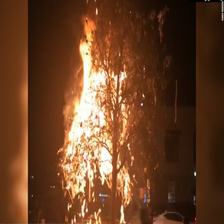fire: (56, 6, 147, 221)
